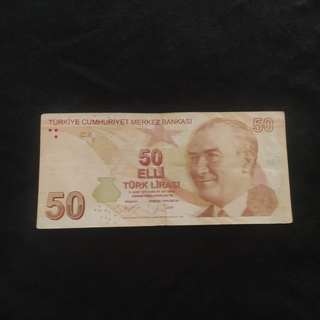50TLFront: (36, 110, 293, 229)
